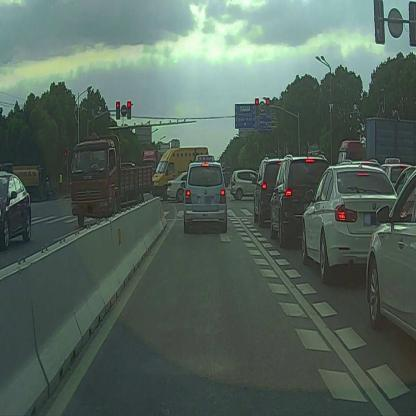Red Light: (265, 98, 271, 117), (115, 99, 120, 121), (127, 99, 132, 121), (256, 98, 260, 115)
